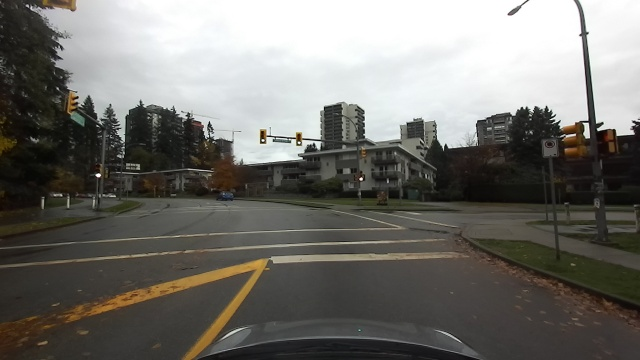car: (214, 189, 235, 203)
